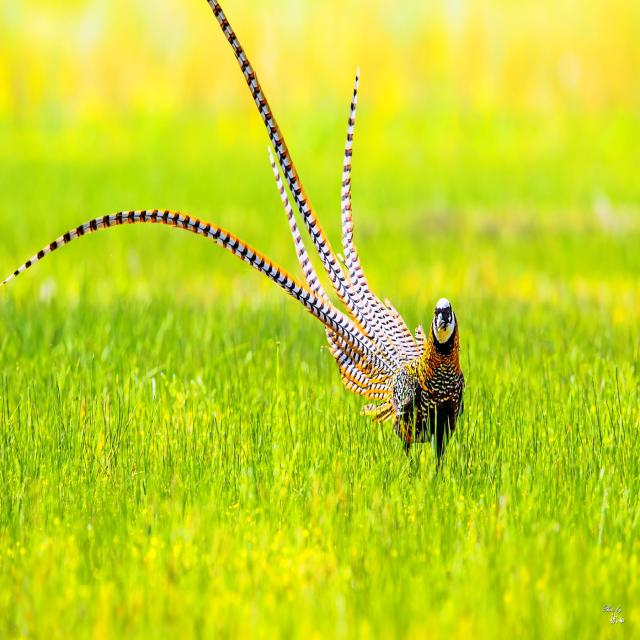Reeves-s Pheasant: (7, 209, 405, 399), (219, 10, 420, 367), (271, 152, 328, 302), (329, 304, 349, 319)
